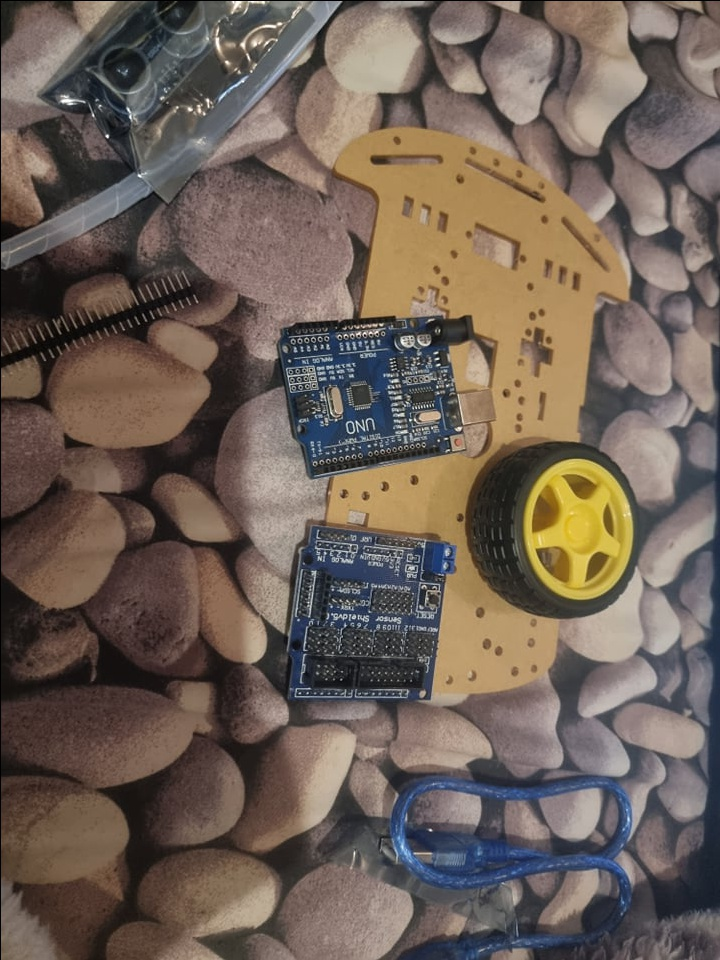5V EXPANSION: (292, 518, 456, 702)
SENSOR: (87, 0, 225, 122)
UNO R3: (274, 314, 493, 481)
